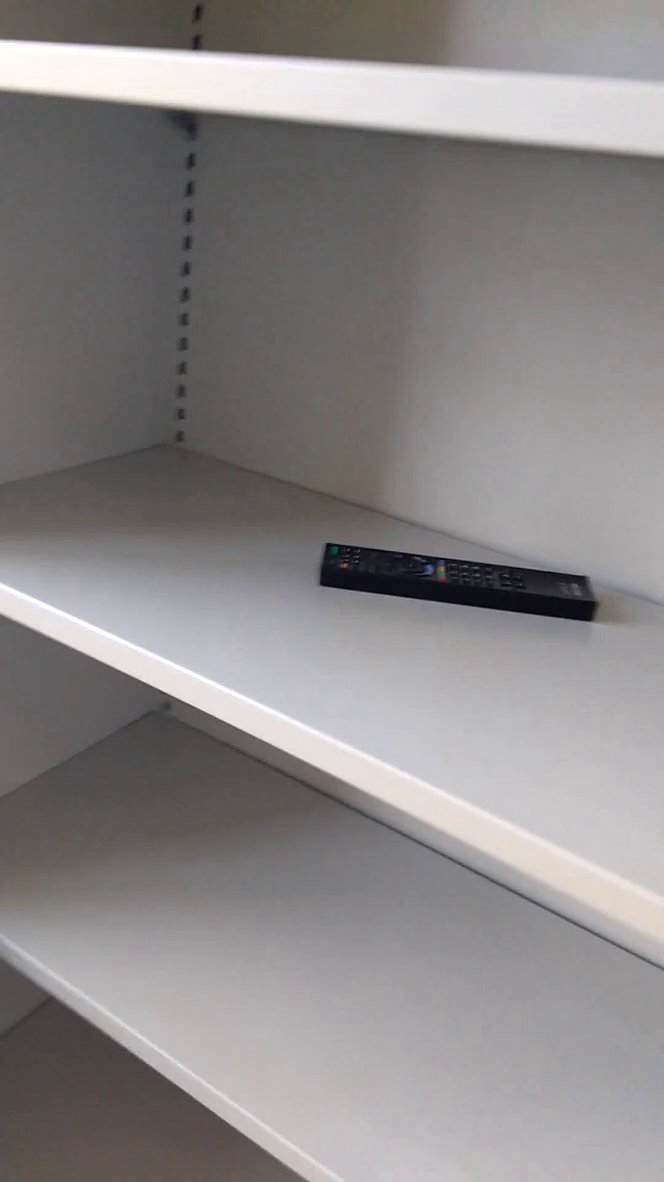remote: (307, 529, 608, 629)
